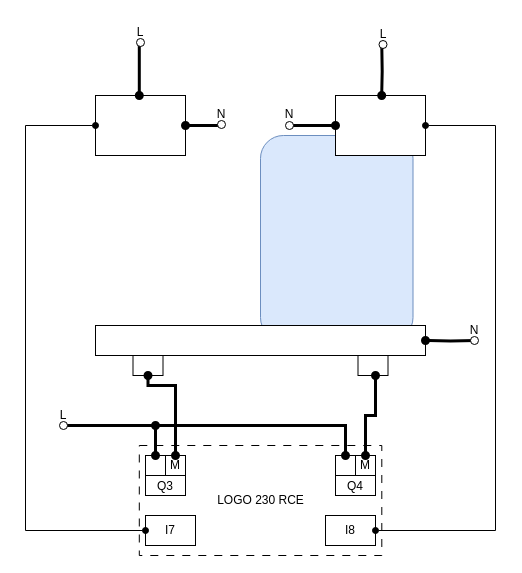
Image size: 522x573. Some labels were removed from this diagram. The centre of each missing label's shape, as x and y in pixels:
"Aumuller KS2 TWIN" belongs at (x=260, y=340).
"DI7 (окно открыто)" belongs at (x=140, y=125).
"DI8 (окно закрыто)" belongs at (x=380, y=125).
